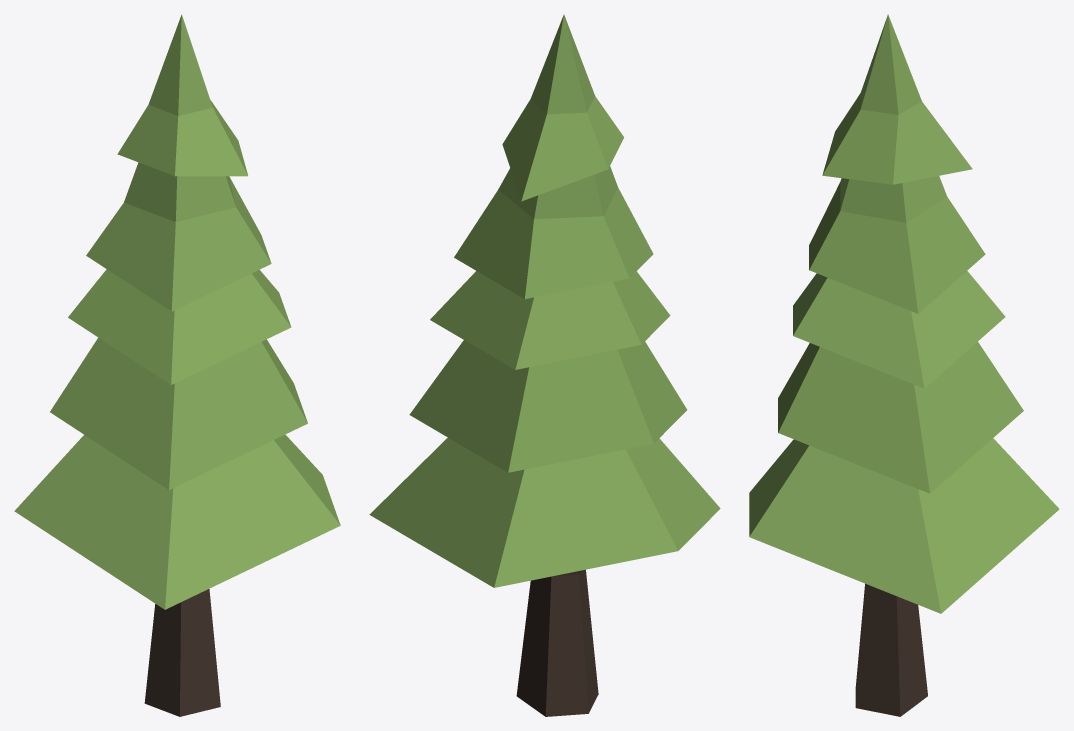
Rendered from lightgreen_conetree1.fbx.
3 views of the same model, side by side, from view 1: azimuth 30°, elevation 25°; view 2: azimuth 150°, elevation 25°; view 3: azimuth 270°, elevation 25° (orthographic).
Parts seen in each view (by area): view 1: lightgreen_conetree1; view 2: lightgreen_conetree1; view 3: lightgreen_conetree1.
Boxes of the visible parts, <box> form: lightgreen_conetree1: <box>14,14,340,716</box>; lightgreen_conetree1: <box>369,14,720,716</box>; lightgreen_conetree1: <box>749,14,1059,716</box>.
Bounding box in the file's own units: 648 × 1377 × 568.
